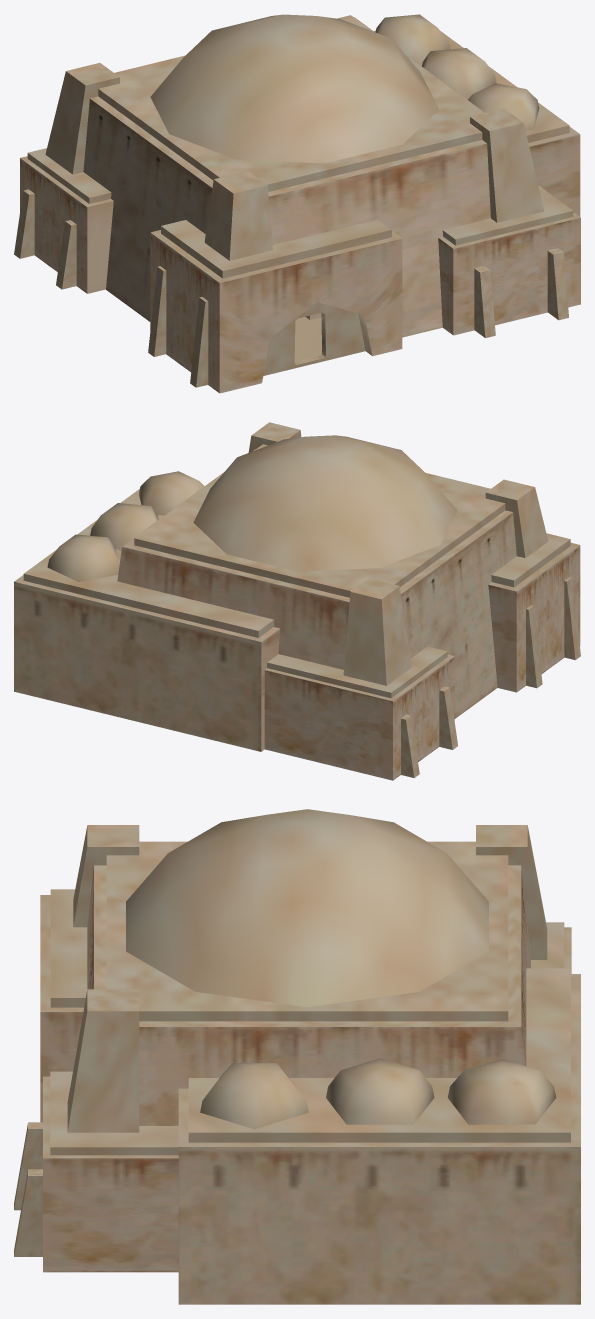
The model's file is thm_tato_imprv_building_s05_r0_mesh_l2.fbx.
3 renders of one model, top to bottom at view 1: azimuth 30°, elevation 25°; view 2: azimuth 150°, elevation 25°; view 3: azimuth 270°, elevation 25°, orthographic. The views are drawn at different scales.
Parts seen in each view (by area): view 1: mesh_node; view 2: mesh_node; view 3: mesh_node.
Boxes of the visible parts, left/top/right/bottom form: mesh_node: left=14, top=14, right=580, bottom=393; mesh_node: left=14, top=422, right=580, bottom=780; mesh_node: left=14, top=809, right=580, bottom=1304.
Bounding box in the file's own units: 29.01 × 16.02 × 25.5.
Materials: 1 (1 with a texture image).
